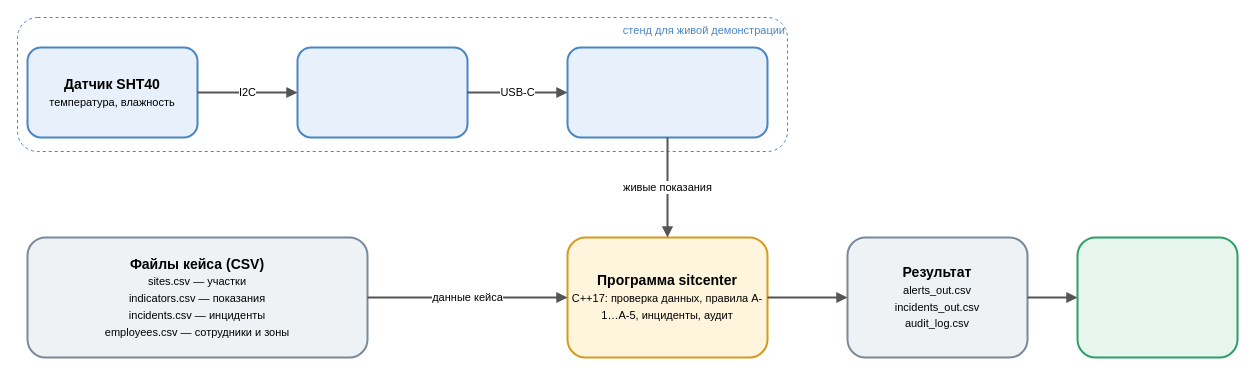
Some shapes in this 1256 by 376 pixel diagram are drawn without their labels. Here are the shapes that lost their labels. From the top down, the centre of each, then its label:
At pixel 382 92: "ESP32 читает датчик".
At pixel 667 92: "Шлюз на ноутбуке пишет indicators_live.csv".
At pixel 1157 297: "Панель диспетчера браузер, обновление раз в 5 с".
